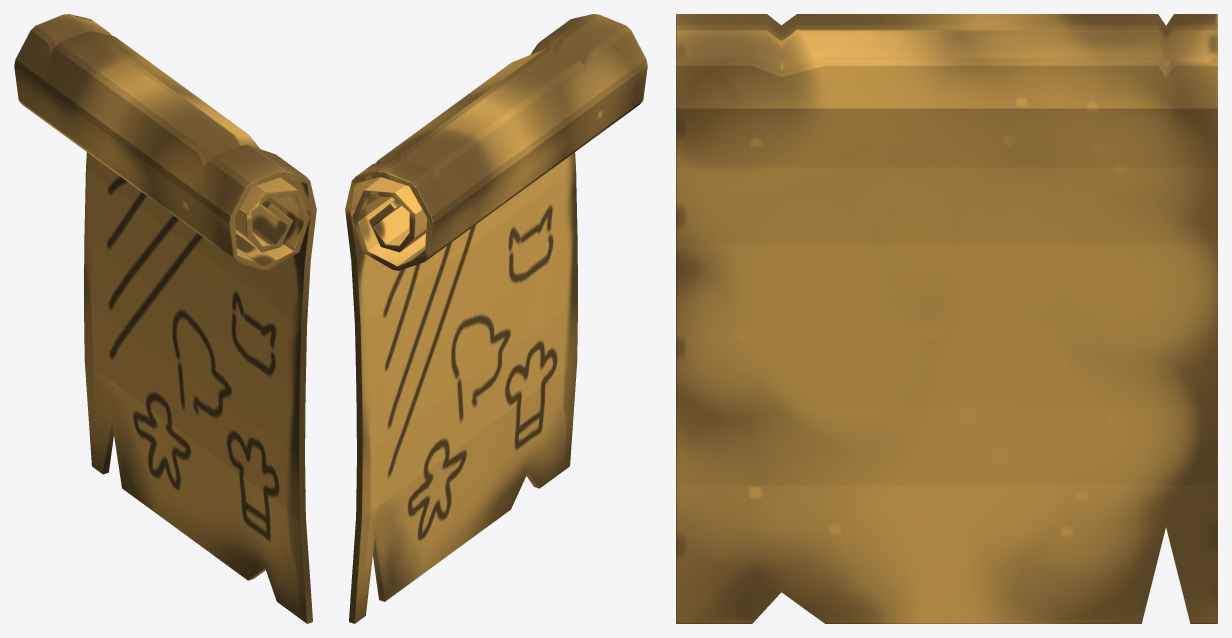
File: Scroll1.fbx
The picture shows the model from 3 angles, left to right: view 1: azimuth 30°, elevation 25°; view 2: azimuth 150°, elevation 25°; view 3: azimuth 270°, elevation 25°; orthographic projection. The views are drawn at different scales.
Visible parts, largest first — view 1: Scroll1; view 2: Scroll1; view 3: Scroll1.
Boxes of the visible parts, x1,y1,x2,y2 form: Scroll1: [14, 14, 316, 623]; Scroll1: [345, 14, 647, 623]; Scroll1: [676, 14, 1217, 623].
Bounding box in the file's own units: 4.4 × 22.02 × 18.72.
